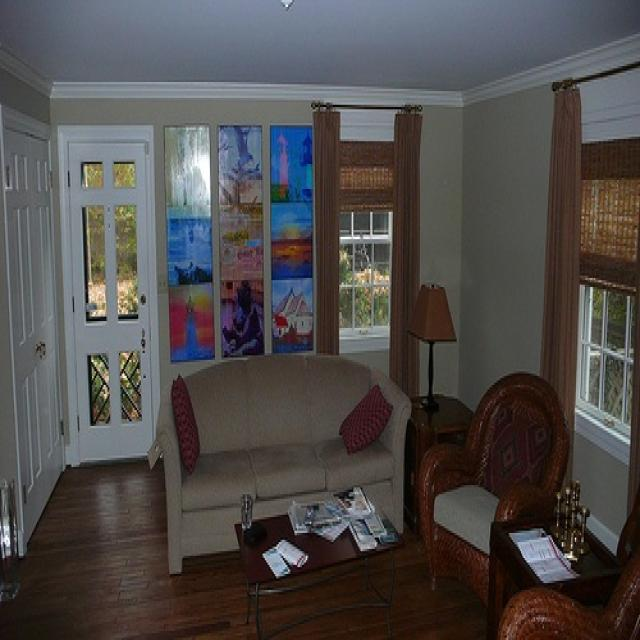chair: (417, 371, 571, 629), (496, 544, 638, 638)
sofa: (155, 353, 413, 574)
